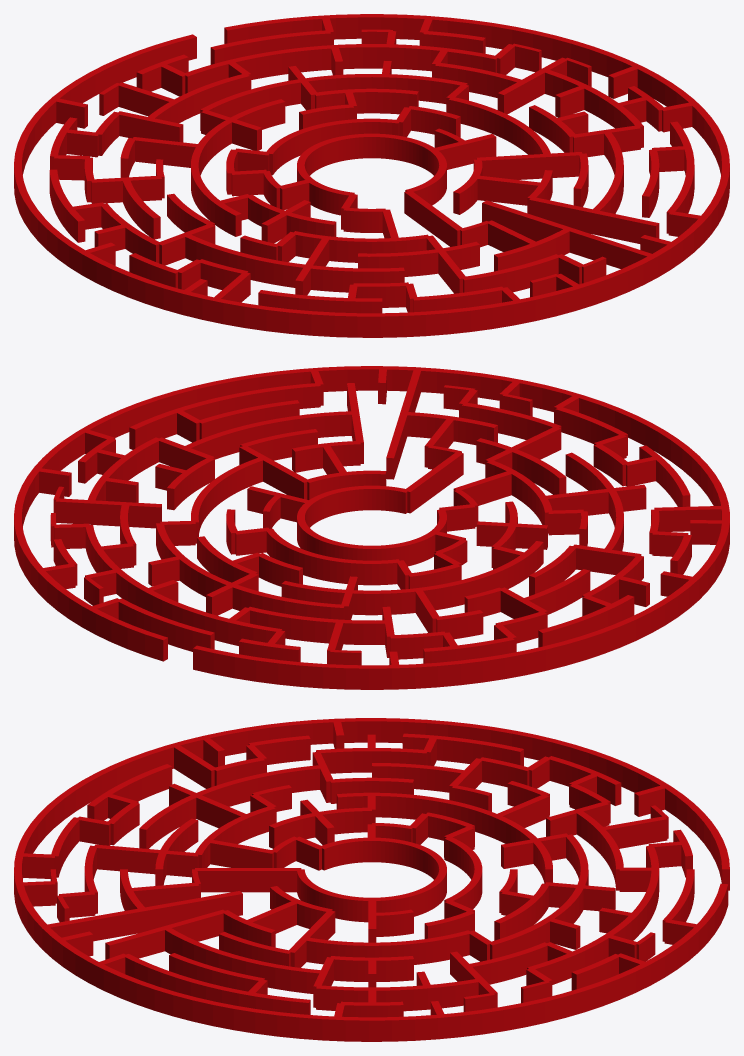
Rendered from testmaze.fbx.
3 renders of one model, top to bottom at view 1: azimuth 30°, elevation 25°; view 2: azimuth 150°, elevation 25°; view 3: azimuth 270°, elevation 25°, orthographic.
Visible parts, largest first — view 1: maze_example; view 2: maze_example; view 3: maze_example.
Part boxes in pixels (left/top/right/bottom): maze_example: left=14, top=14, right=729, bottom=337; maze_example: left=14, top=366, right=729, bottom=689; maze_example: left=14, top=718, right=729, bottom=1041.
Bounding box in the file's own units: 18.28 × 0.6 × 18.28.
